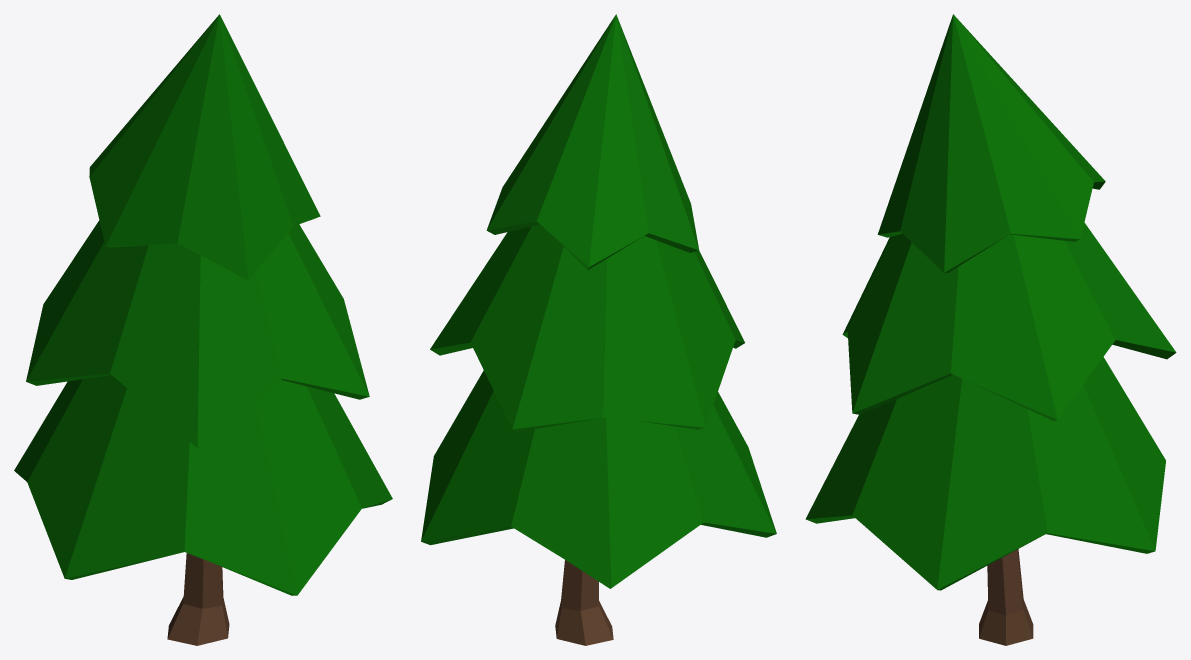
Rendered from Tree_Cone_1.fbx.
3 renders of one model, left to right at view 1: azimuth 30°, elevation 25°; view 2: azimuth 150°, elevation 25°; view 3: azimuth 270°, elevation 25°, orthographic. The views are drawn at different scales.
Parts seen in each view (by area): view 1: ConeTreeV2; view 2: ConeTreeV2; view 3: ConeTreeV2.
Part boxes in pixels (left/top/right/bottom): ConeTreeV2: left=14, top=14, right=392, bottom=645; ConeTreeV2: left=421, top=14, right=776, bottom=645; ConeTreeV2: left=805, top=14, right=1176, bottom=645.
Size of the model in its own units: 845 by 1575 by 862.
